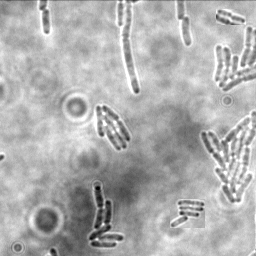Dividing: (123, 1, 142, 95), (216, 9, 246, 25), (41, 8, 52, 35)
Microcolony: (200, 109, 255, 205), (212, 25, 255, 94), (89, 184, 126, 248), (96, 103, 132, 150), (170, 199, 205, 228), (182, 16, 193, 48)
